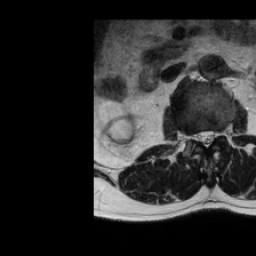CCS_normal: (201, 124, 209, 151)
LFS_severe_stenosis: (216, 125, 222, 141)
LLS_normal: (209, 125, 216, 146)
RFS_stenosis: (187, 127, 195, 144)
RLS_normal: (195, 127, 202, 146)
